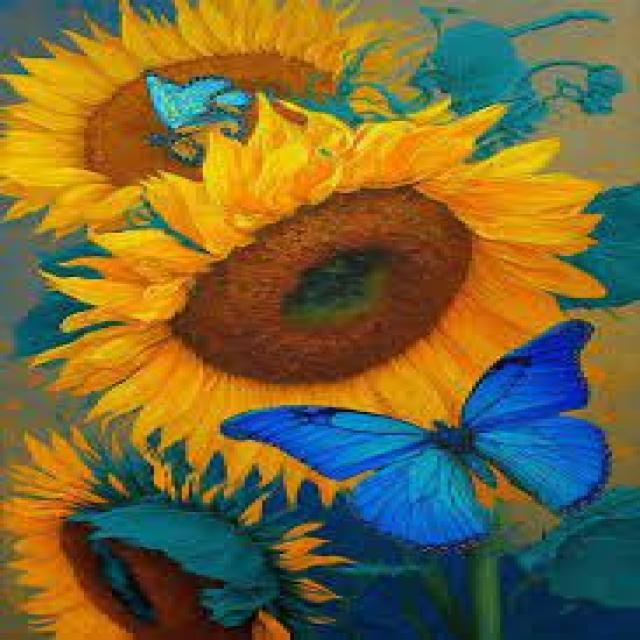sunflower: (24, 86, 613, 512), (0, 0, 448, 239), (0, 417, 353, 636)
